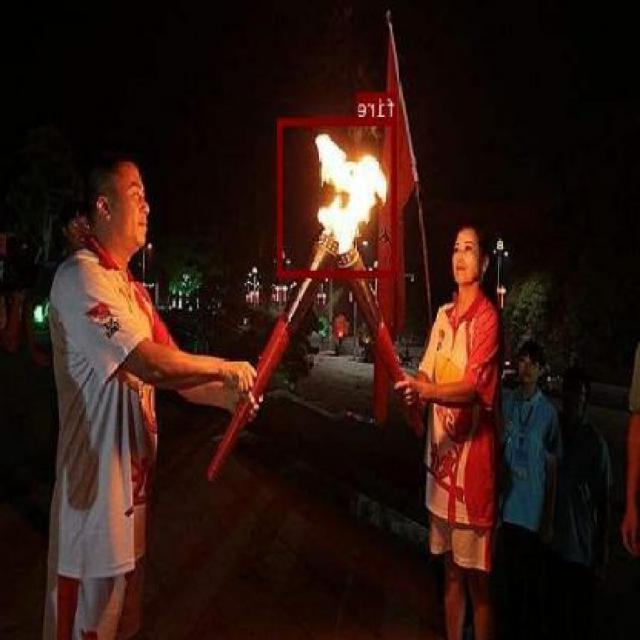fire: (278, 118, 397, 276)
